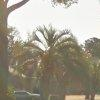Palm tree: (23, 20, 88, 92)
